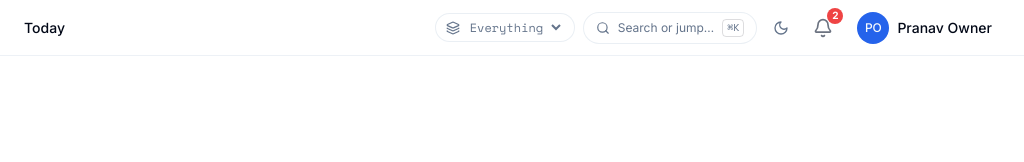
Test: TopBar stacking › opens the user menu inside the bar
Step 1. Click the button "PO Pranav Owner" → (925,28), box 849,6 -> 1000,50
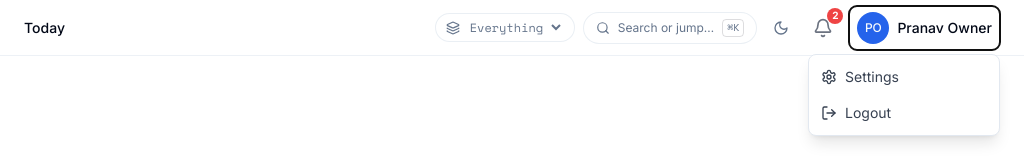
Check: the element with test id "user-menu-panel" shows "Settings", box 809,58 -> 999,94
